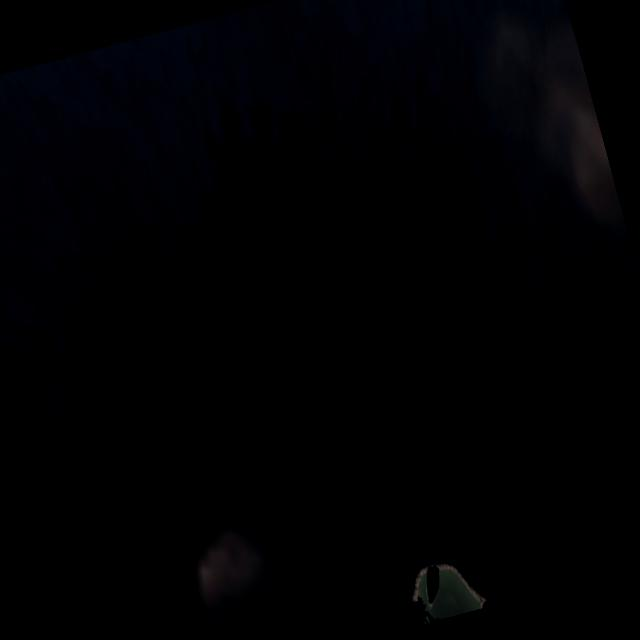smoke: (452, 0, 640, 441), (172, 505, 325, 640)
